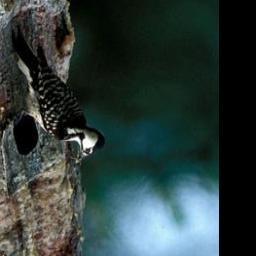Woodpecker: (13, 23, 107, 166)
